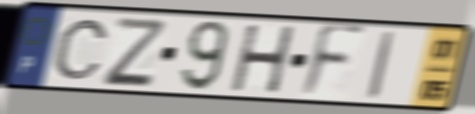9: (177, 19, 232, 93)
C: (50, 17, 111, 83)
F: (296, 21, 369, 102)
H: (229, 23, 299, 95)
I: (364, 29, 398, 102)
Z: (101, 14, 167, 87)
